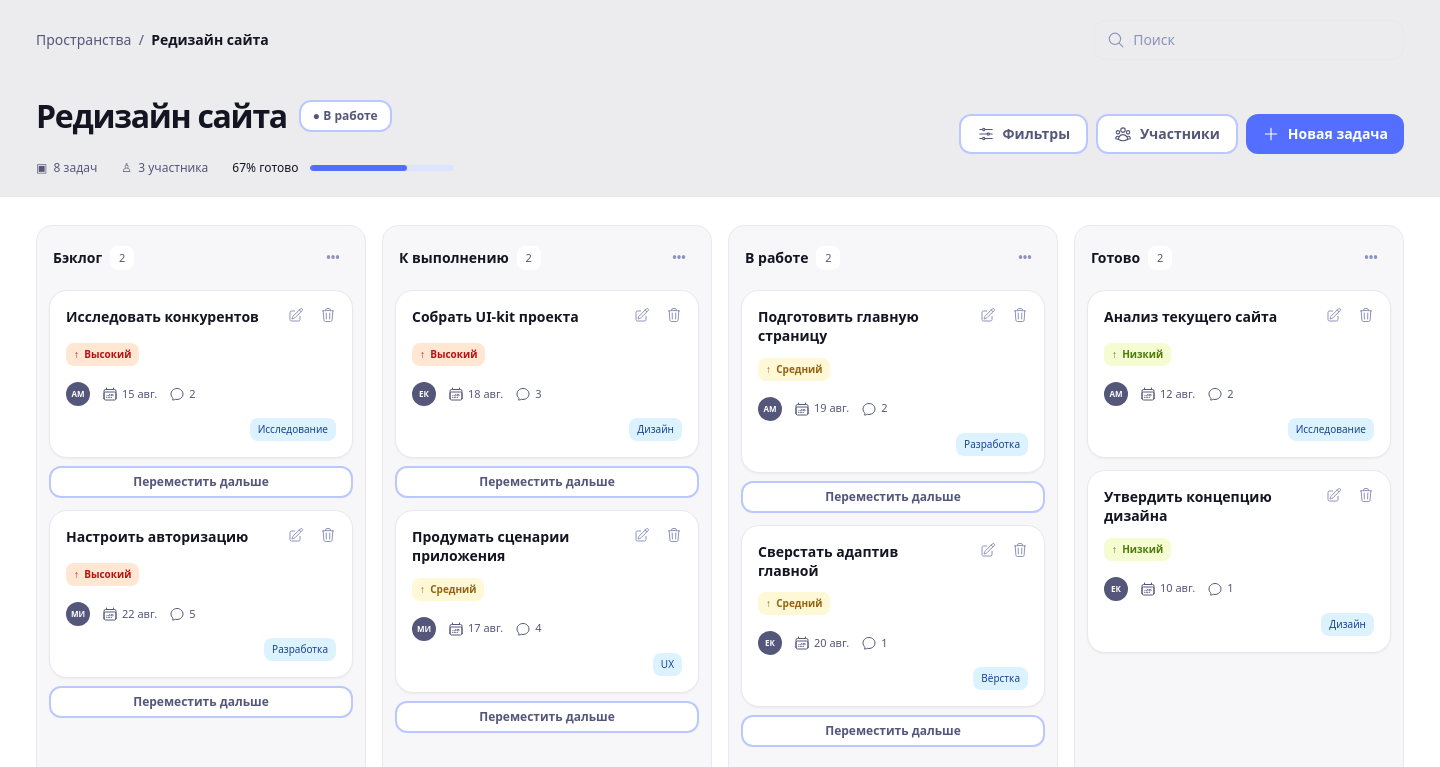
Scenario: KanbanBoard › фильтрует задачи по выбранной категории
Click the button "Фильтры" at x=1023, y=134, box [958, 114, 1088, 154]
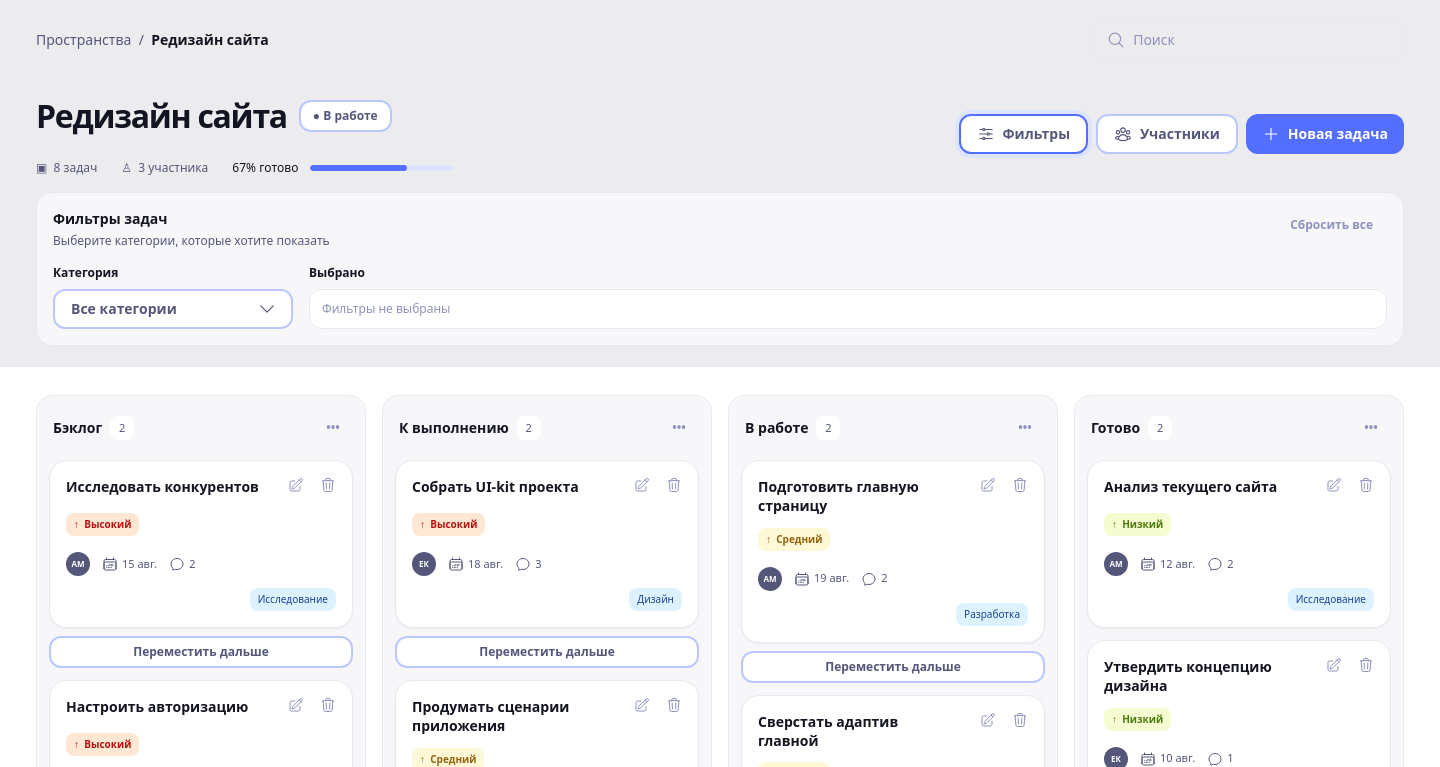
Result: the button "Фильтры" is expanded at [958, 114, 1088, 154]
Select "Исследование" in the dropdown named "Добавить категорию" at x=173, y=309, box [53, 289, 293, 329]
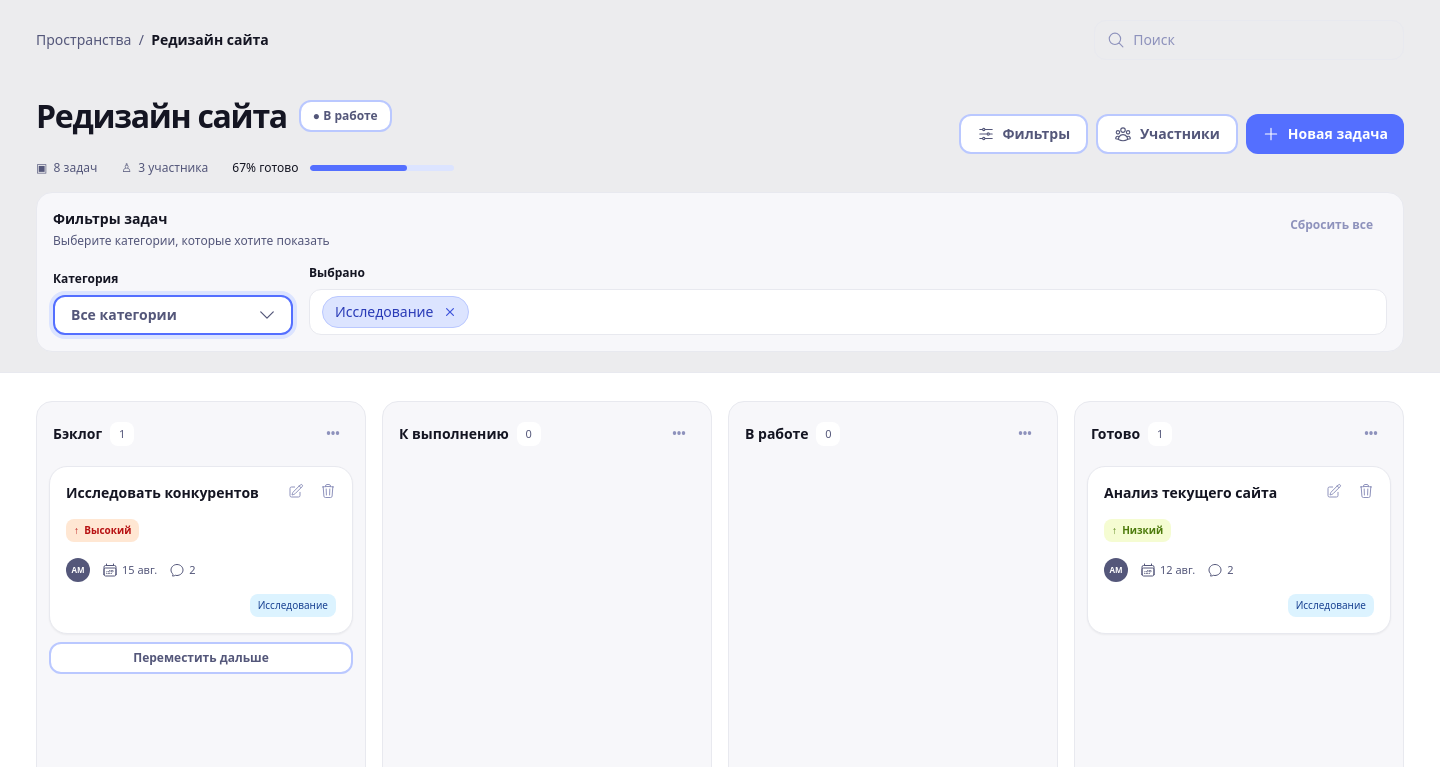
Expected: the link "Исследовать конкурентов" is shown, [66, 483, 259, 502]
Result: the text "Исследование" below "Выбрано" is shown at [335, 302, 434, 321]
Result: the link "Собрать UI-kit проекта" is gone
